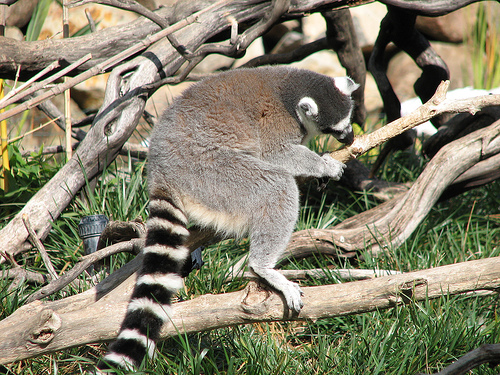cat: (73, 64, 360, 374)
